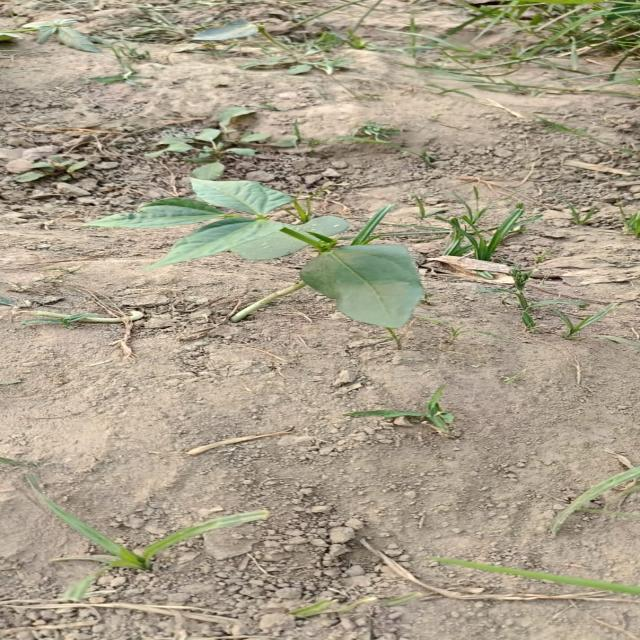plant: (87, 179, 424, 329)
